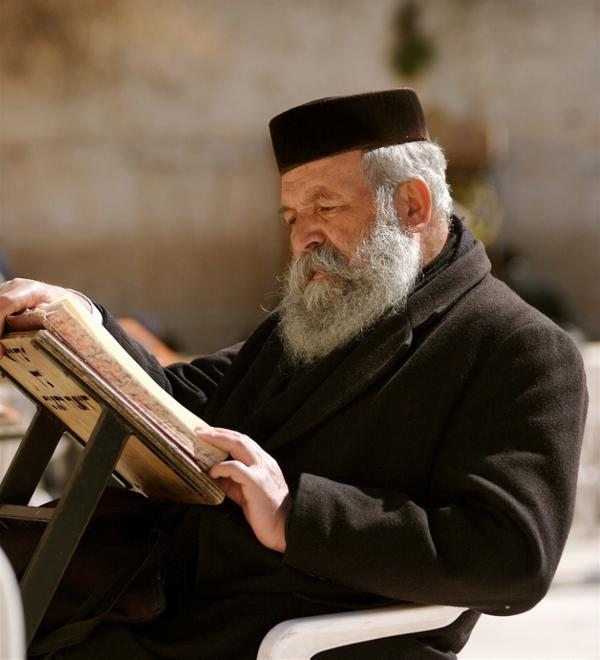person: (4, 90, 589, 660)
